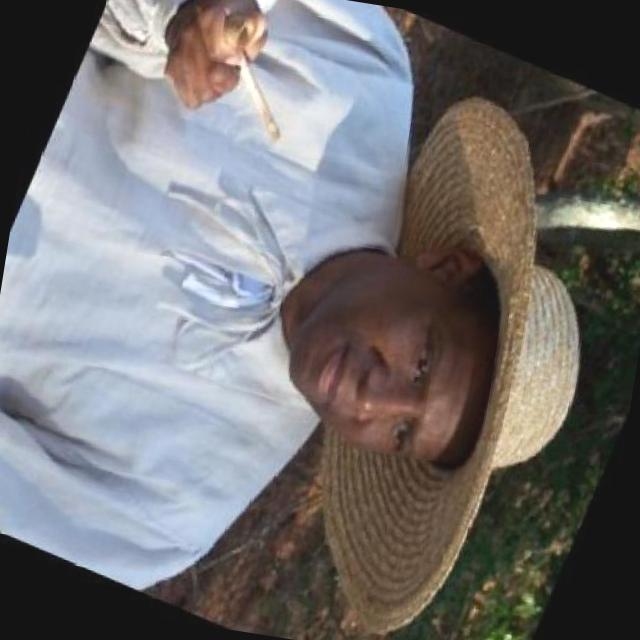smoke: (205, 36, 313, 148)
